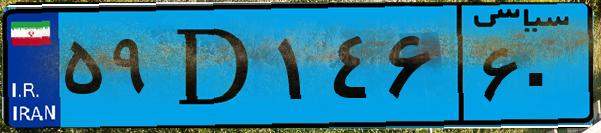0: (525, 38, 570, 115)
1: (270, 28, 330, 110)
4: (330, 28, 385, 110)
5: (57, 26, 110, 100)
6: (385, 28, 445, 110), (475, 38, 525, 113)
9: (110, 28, 158, 98)
D: (158, 12, 270, 120)
